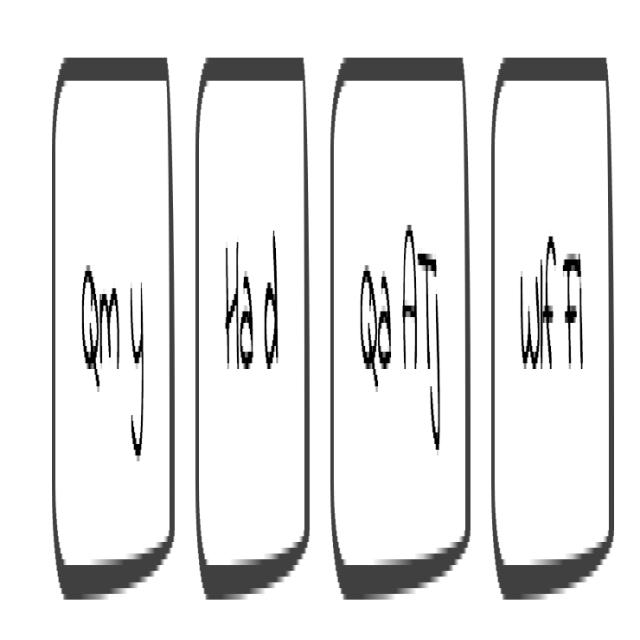Navigation Bar: (21, 21, 625, 622)
